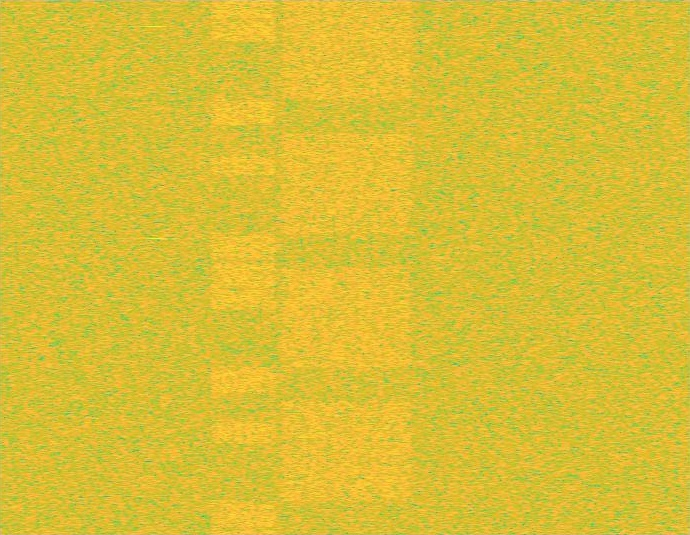5G: (278, 0, 416, 534)
LTE: (209, 0, 278, 534)
Radar: (148, 0, 162, 534)
